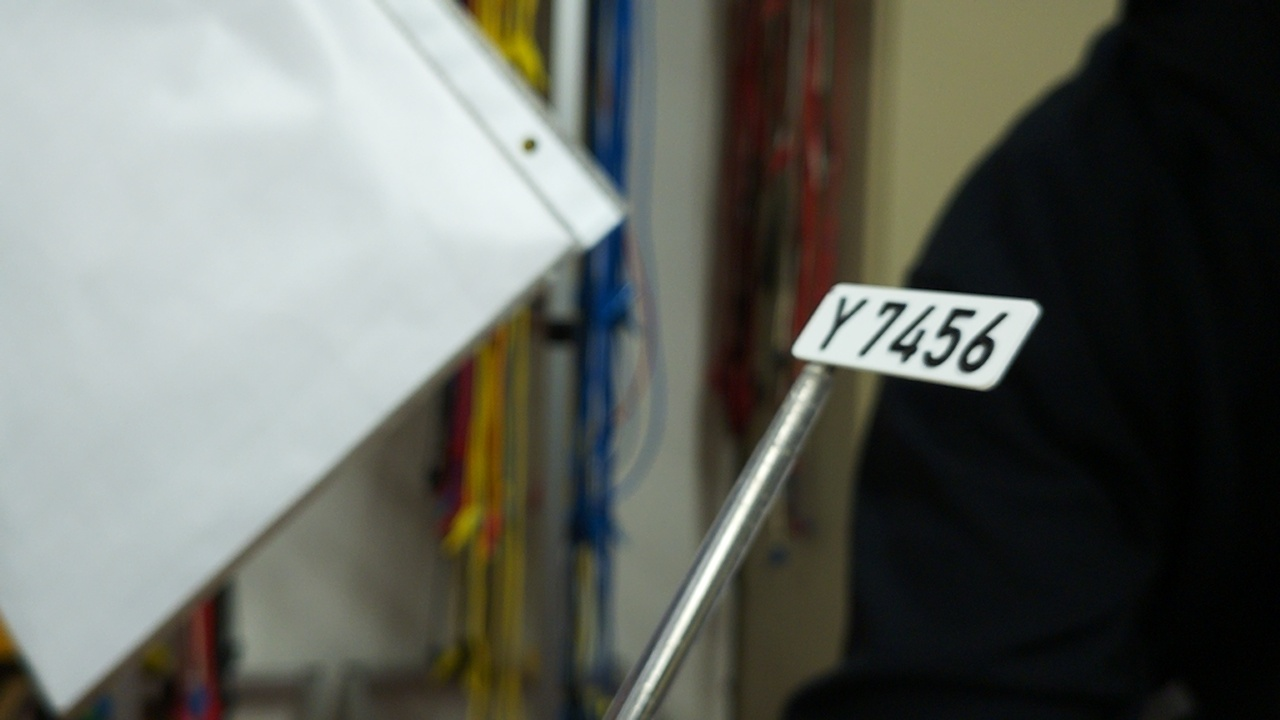license_plate: (787, 277, 1044, 397)
